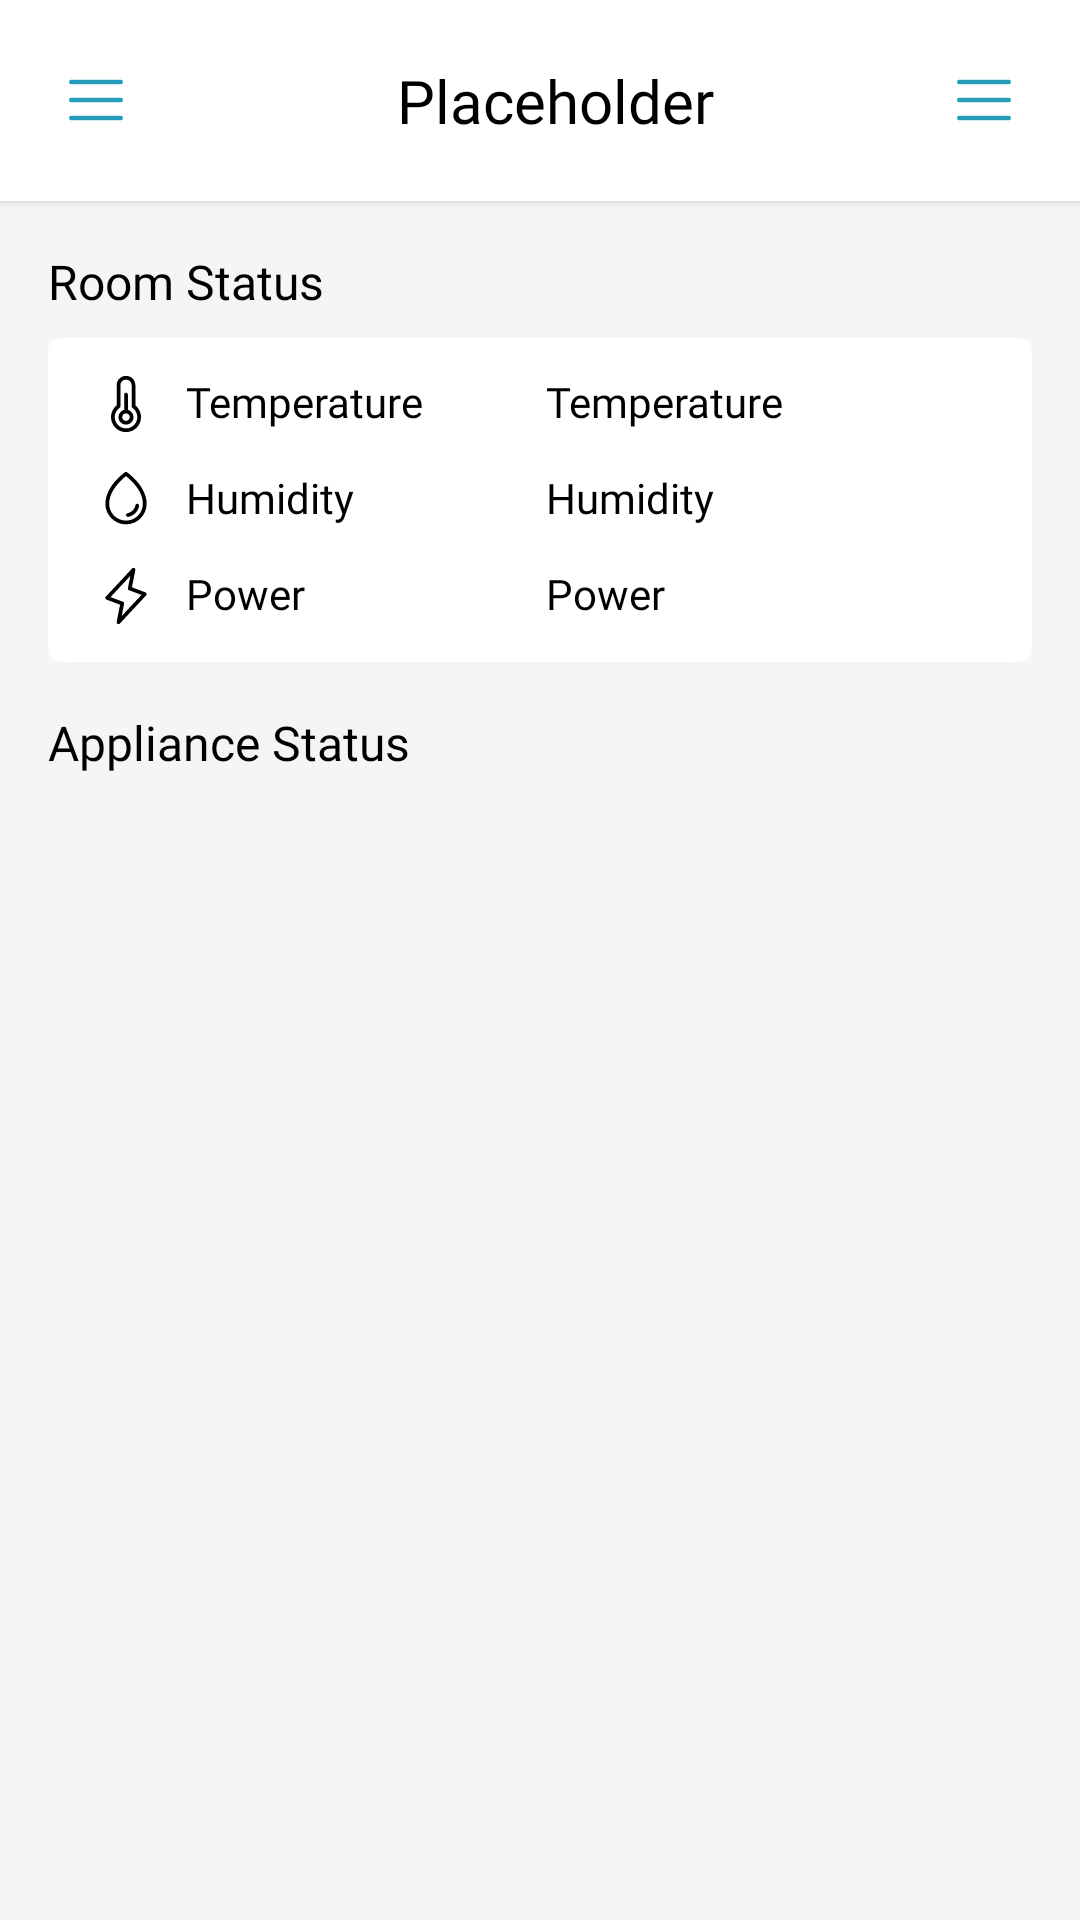

Named icons in this screenshot (1080 x 1920) and their bounding boxes, BBox(x1, y1, x2, y2):
menu: BBox(69, 79, 123, 121), BBox(957, 79, 1011, 121)
